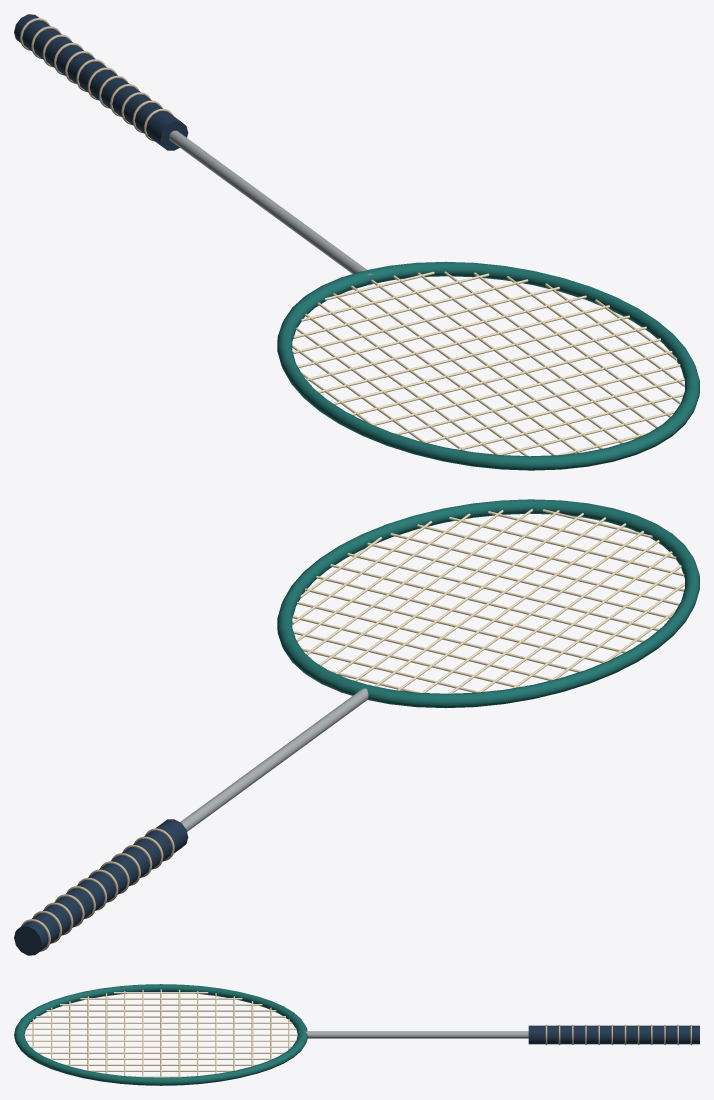
Rendered from racket-ac54c6ae261d.glb.
The picture shows the model from 3 angles, top to bottom: view 1: azimuth 30°, elevation 25°; view 2: azimuth 150°, elevation 25°; view 3: azimuth 270°, elevation 25°; orthographic projection. The views are drawn at different scales.
Parts seen in each view (by area): view 1: surface_ivory, surface_teal, surface_navy, surface_steel, surface_linen; view 2: surface_ivory, surface_teal, surface_navy, surface_steel, surface_linen; view 3: surface_ivory, surface_teal, surface_navy, surface_steel, surface_linen.
Part boxes in pixels (x1,y1,x2,y2): surface_ivory: [292, 271, 684, 455]; surface_teal: [277, 261, 699, 470]; surface_navy: [14, 14, 188, 150]; surface_steel: [169, 130, 372, 285]; surface_linen: [20, 18, 173, 141]; surface_ivory: [292, 509, 684, 693]; surface_teal: [277, 499, 699, 708]; surface_navy: [14, 819, 188, 955]; surface_steel: [180, 684, 371, 831]; surface_linen: [21, 828, 174, 951]; surface_ivory: [25, 989, 297, 1077]; surface_teal: [14, 984, 307, 1085]; surface_navy: [528, 1025, 699, 1044]; surface_steel: [299, 1031, 528, 1038]; surface_linen: [545, 1024, 691, 1045].
Size of the model in its own units: 0.2096 by 0.0188 by 0.6251.
Materials: 5 (1 with a texture image).
